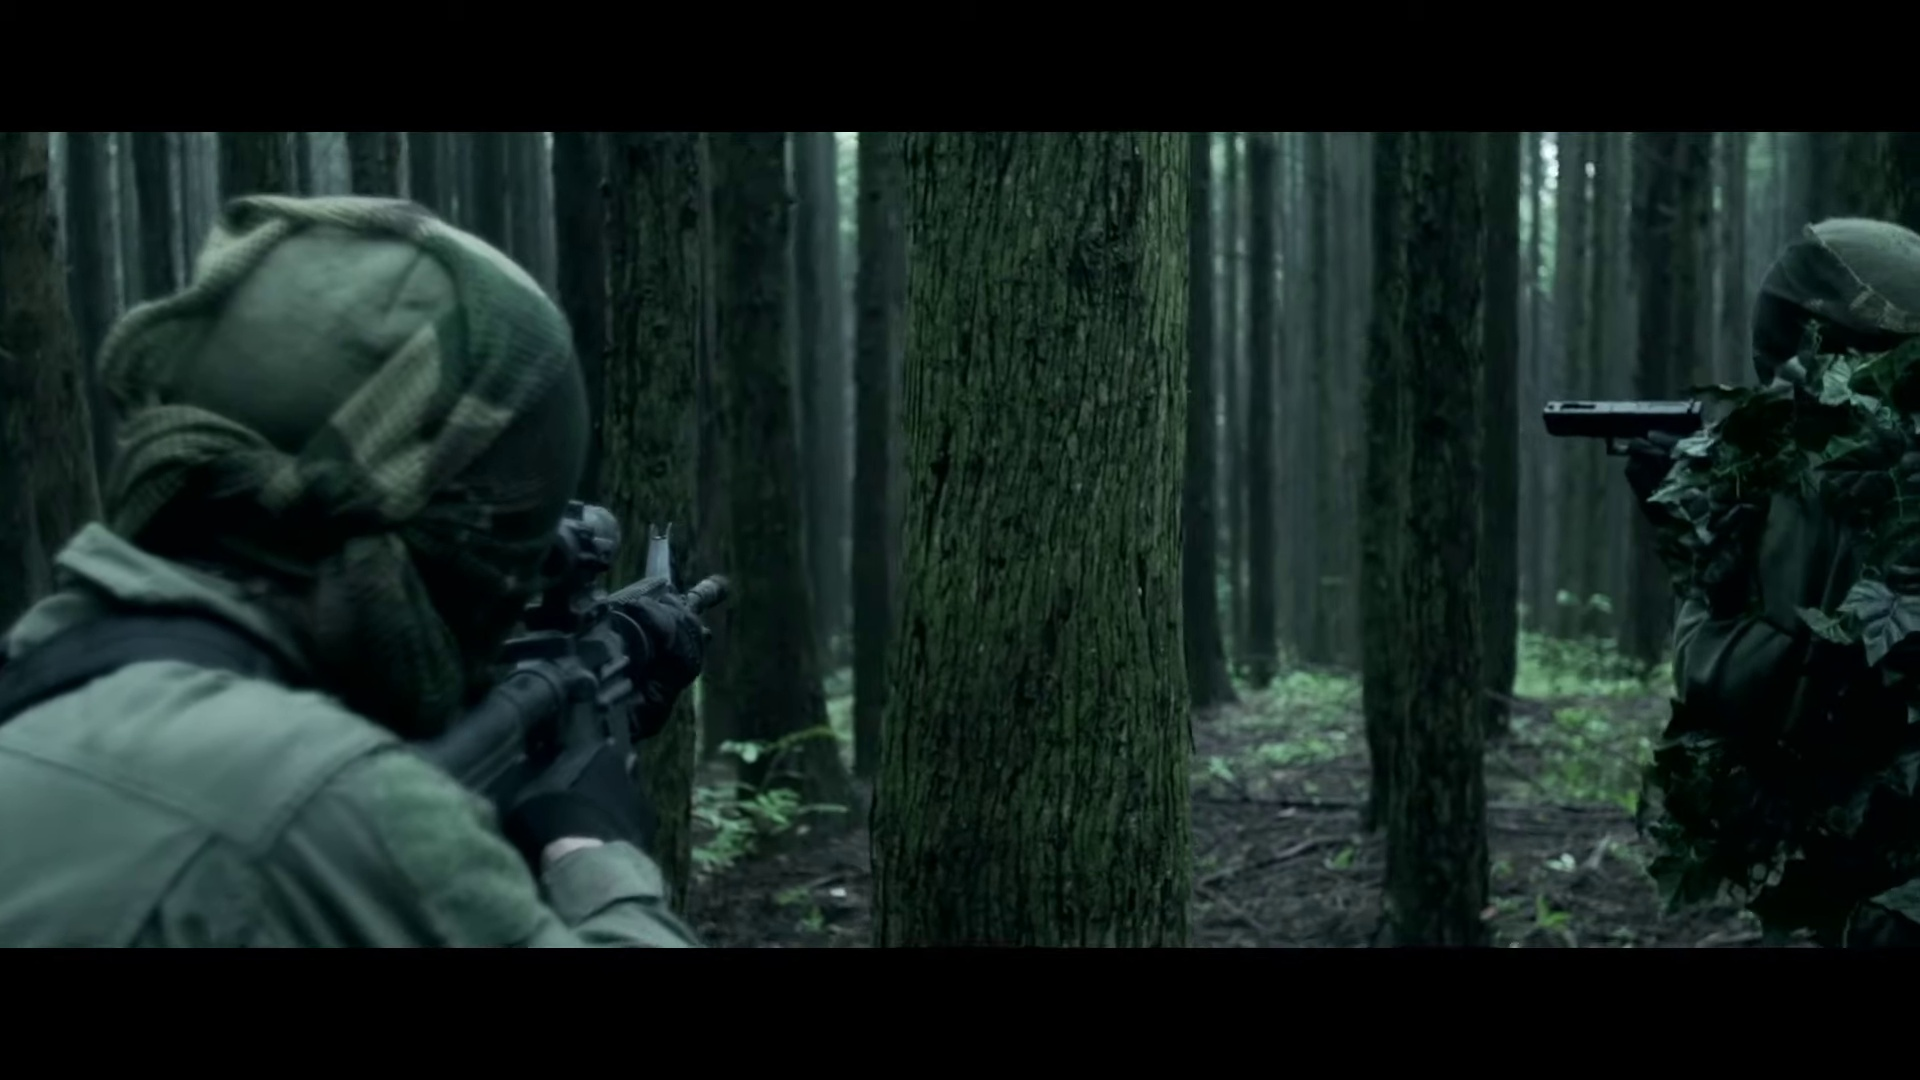gun: (393, 513, 737, 868), (1540, 388, 1721, 497)
p_w_gun: (0, 189, 756, 952), (1534, 218, 1920, 942)
